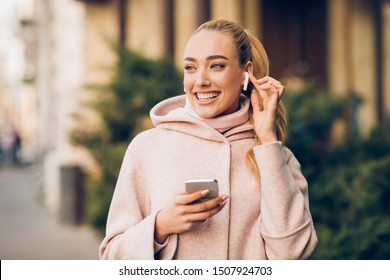earphone: (241, 61, 254, 90)
